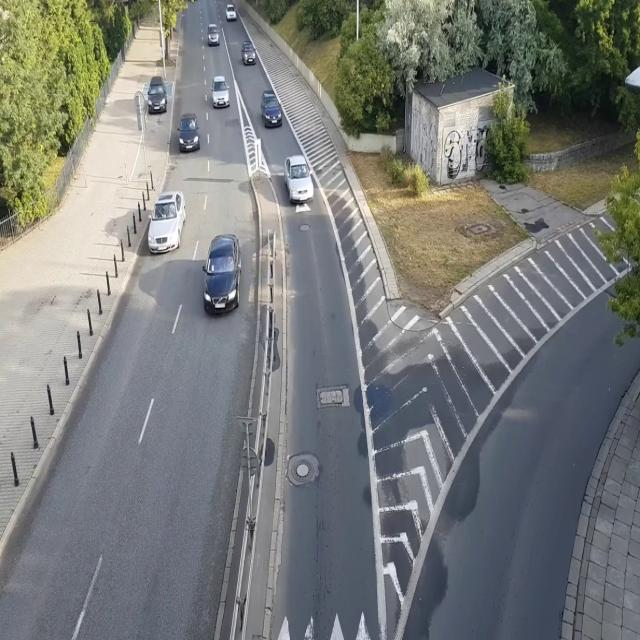car: (202, 233, 242, 315), (148, 190, 186, 253), (284, 154, 314, 204), (260, 89, 283, 128), (147, 74, 168, 116), (178, 114, 200, 152), (211, 77, 230, 109), (242, 40, 256, 65), (206, 23, 220, 47), (226, 4, 237, 22)
